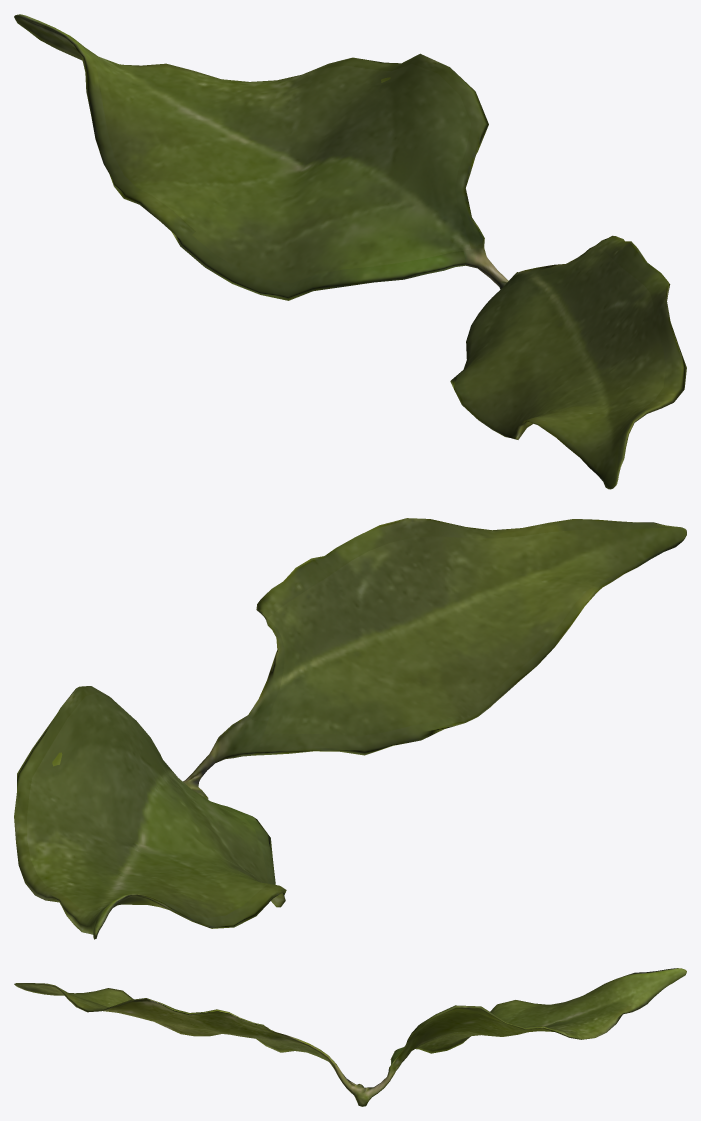
The model's file is hojaexport2.fbx.
The picture shows the model from 3 angles, top to bottom: view 1: azimuth 30°, elevation 25°; view 2: azimuth 150°, elevation 25°; view 3: azimuth 270°, elevation 25°; orthographic projection. The views are drawn at different scales.
Visible parts, largest first — view 1: hojacomia1; view 2: hojacomia1; view 3: hojacomia1.
Boxes of the visible parts, x1,y1,x2,y2 form: hojacomia1: (14,14,686,489); hojacomia1: (14,518,686,939); hojacomia1: (14,968,686,1106).
Size of the model in its own units: 0.3231 by 0.2164 by 1.28.
